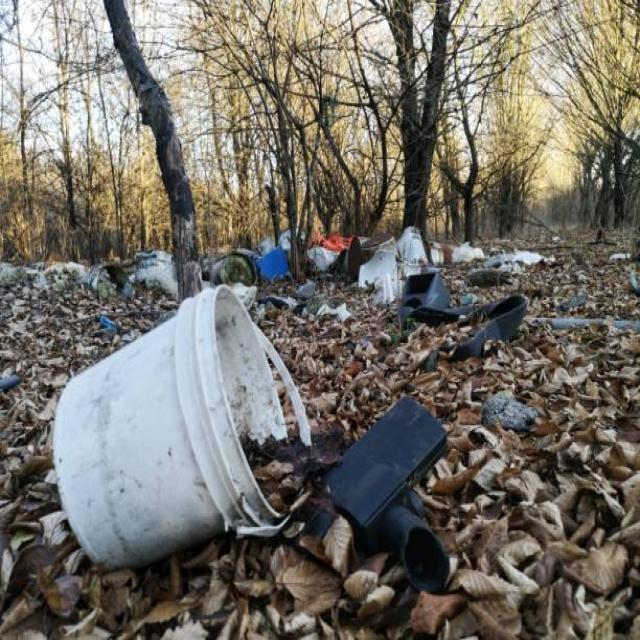plastic: (48, 311, 294, 566)
